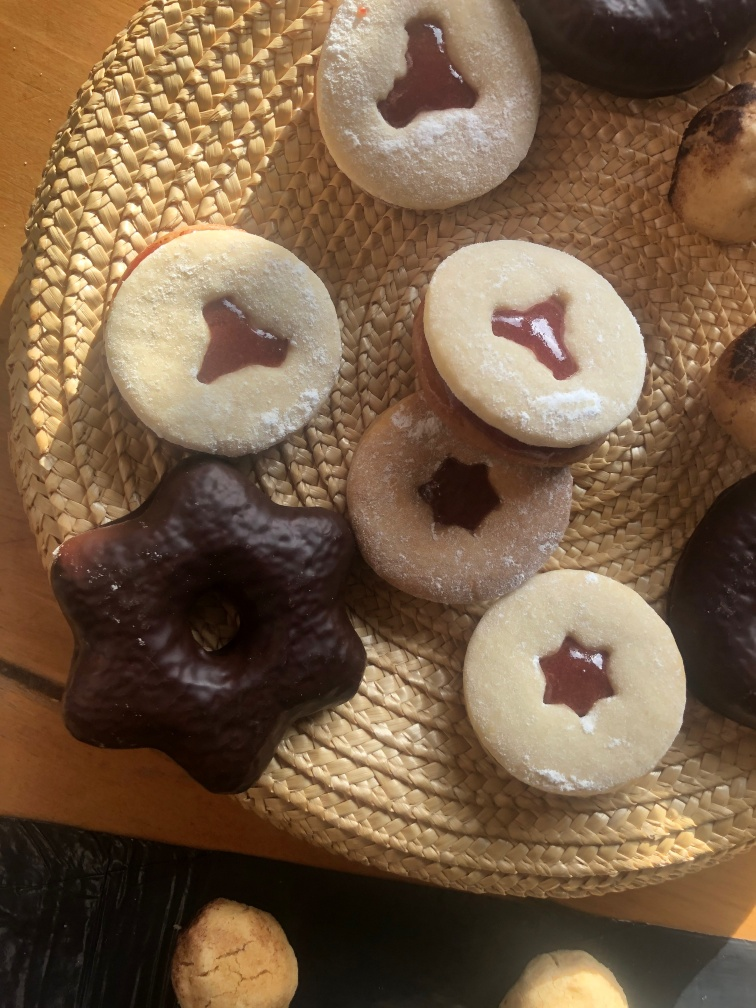christmas shortbread with jam: (103, 220, 338, 467), (465, 567, 689, 799), (421, 232, 653, 455), (344, 382, 576, 600), (320, 1, 547, 216)
snowball: (670, 81, 756, 243), (167, 902, 298, 1008), (501, 940, 629, 1008), (705, 319, 756, 463)
star: (48, 449, 366, 802)
